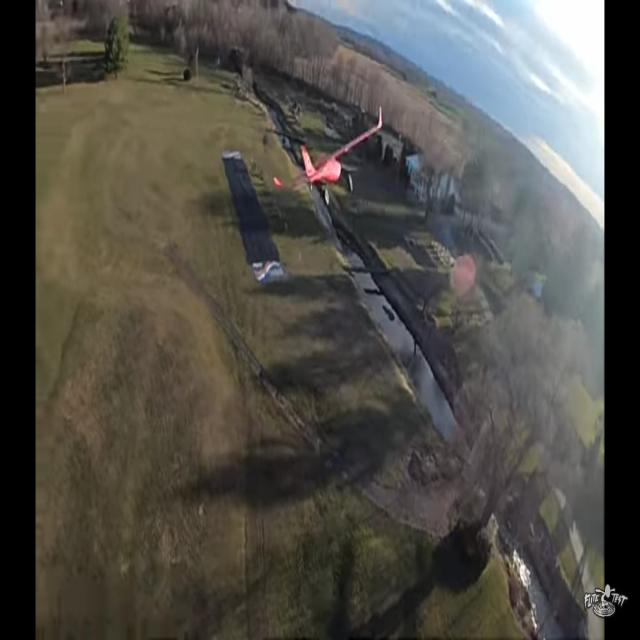iha: (299, 137, 344, 174)
